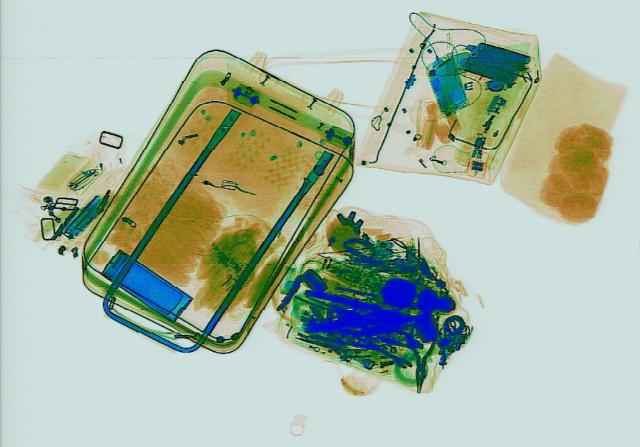Pliers: (404, 320, 438, 392)
Wrench: (352, 336, 414, 369)
